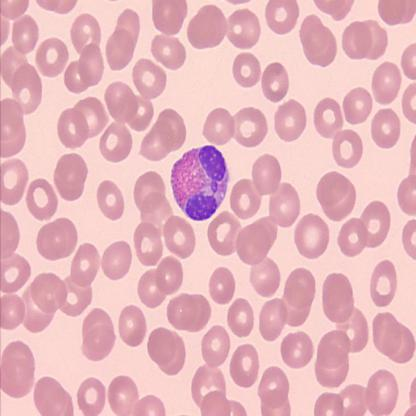Eosinophil: (171, 144, 230, 220)
